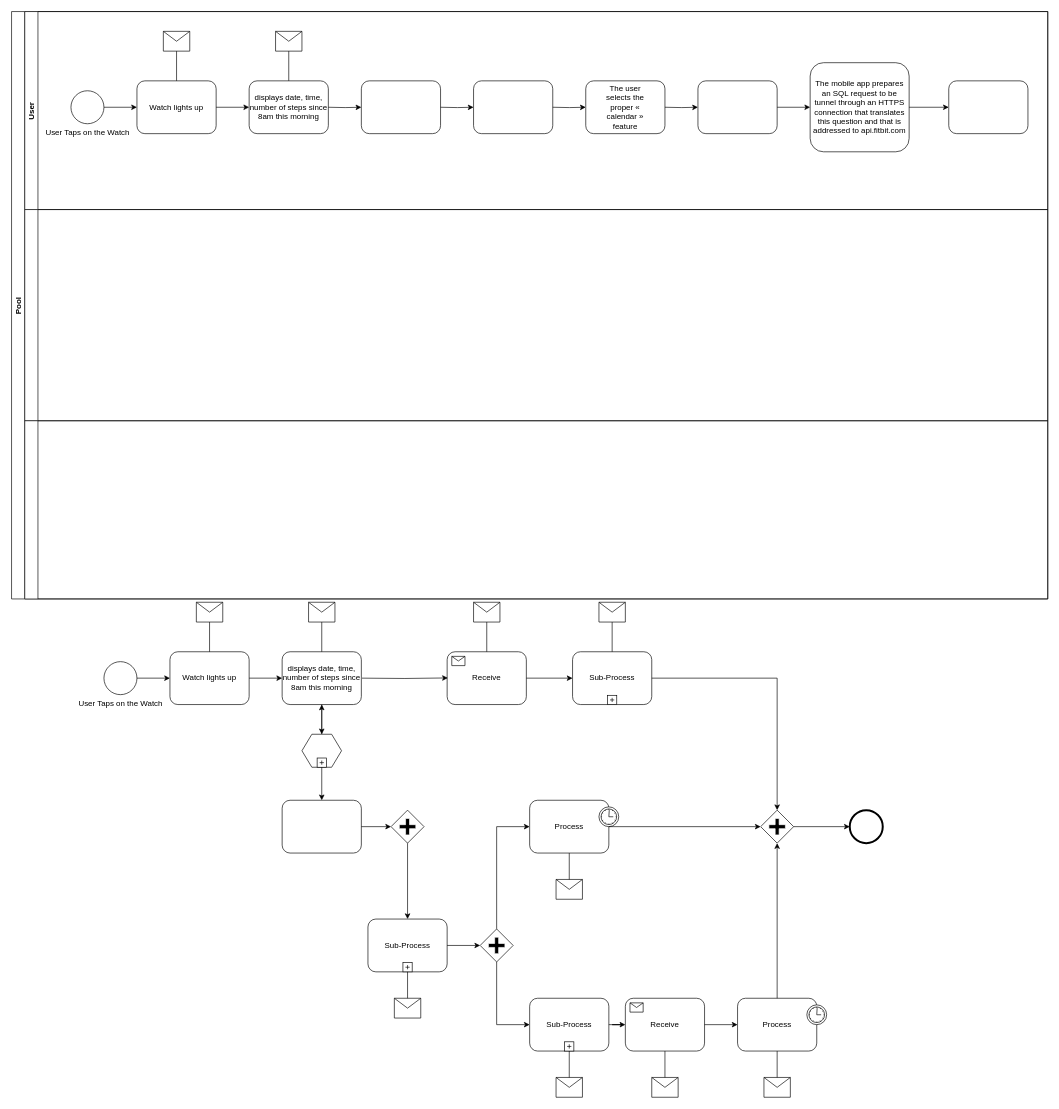
Some shapes in this 1059 by 1109 pixel diagram are drawn without their labels. The shapes that lost their labels are listed below. From the top down, each one's box as (x1, y1, x2, y2) in pixels, then its label:
(361, 80, 441, 134): The user grabs his/her smartphone
(473, 80, 553, 134): The user opens the Fitbit mobile app
(697, 80, 777, 134): The user hits the D-7 cell (What is the number of steps I did seven days ago?
(948, 80, 1028, 134): A DNS request is now prepared and ready to be addressed to GoDaddy Inc.
(24, 209, 1048, 421): Vendors
(24, 420, 1048, 599): Server-end
(281, 800, 361, 853): Task
